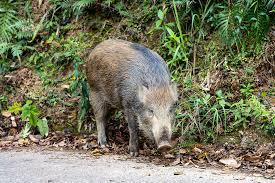wildboar: (77, 37, 180, 157)
